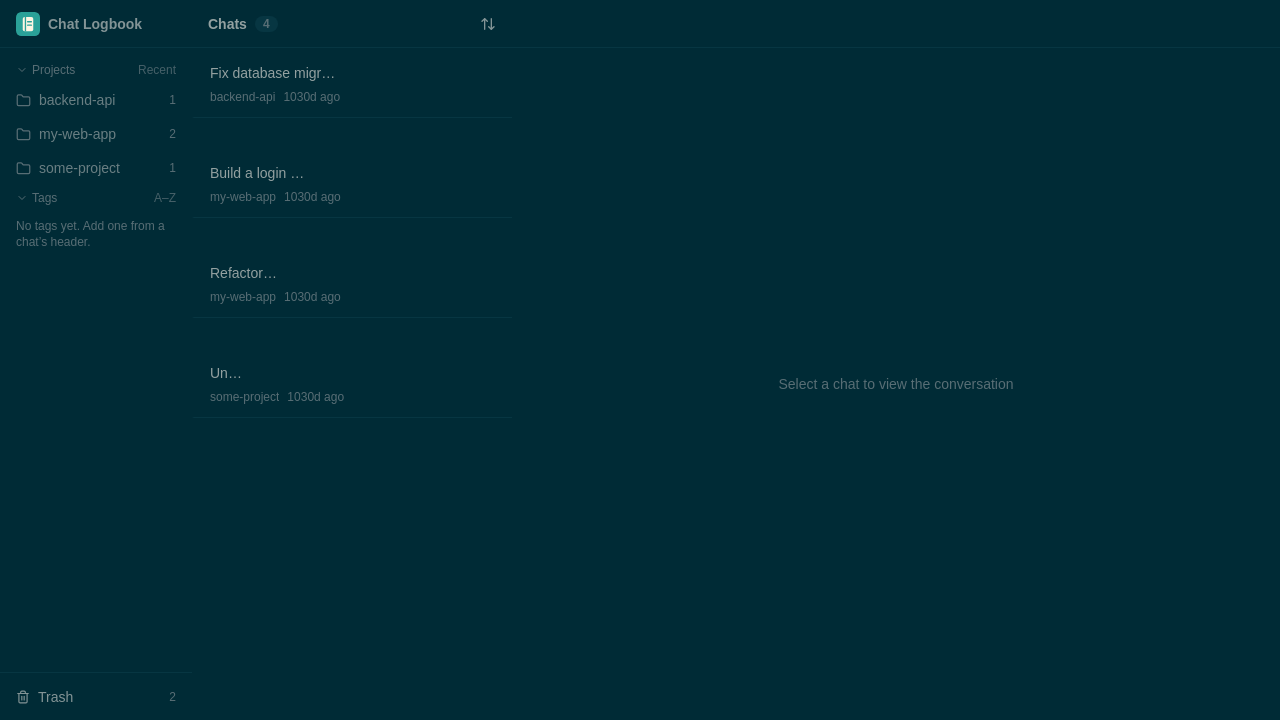
Test: Conversation header › shows the session title and project after selecting a session
The width and height of the screenshot is (1280, 720).
Click the text "Build a login page" at (260, 173), box left=204, top=161, right=315, bottom=185
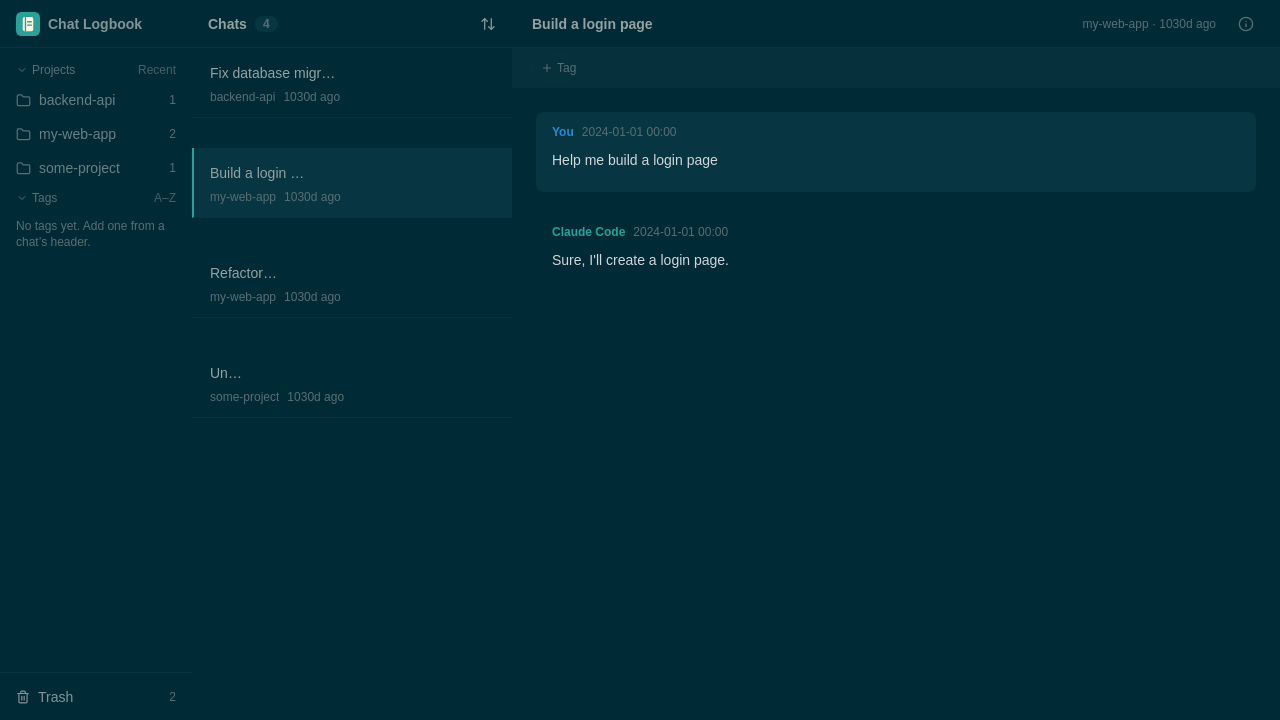
Expected: the 1st text "Build a login page" is shown, left=526, top=12, right=659, bottom=36
Expected: the text "my-web-app · 1030d ago" is shown, left=1083, top=16, right=1216, bottom=32
